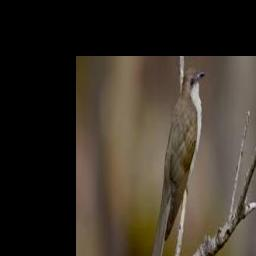Cuckoo: (142, 68, 206, 256)
